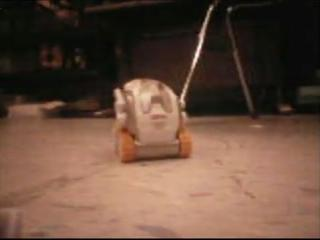cozmo: (111, 76, 192, 162)
